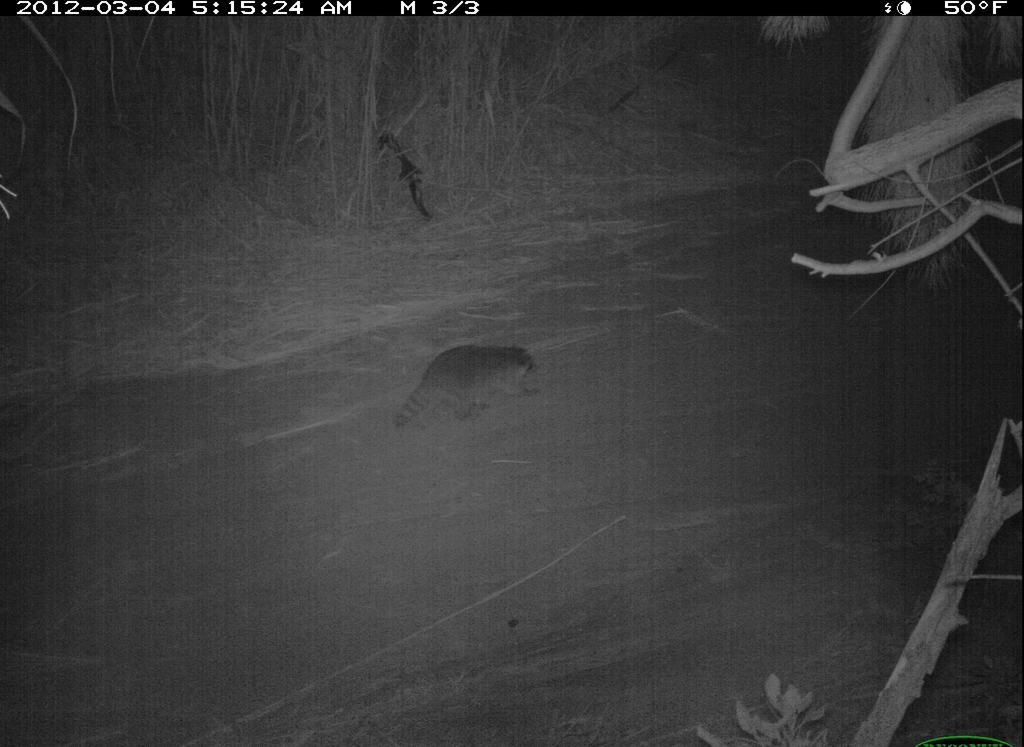raccoon: (385, 332, 559, 441)
